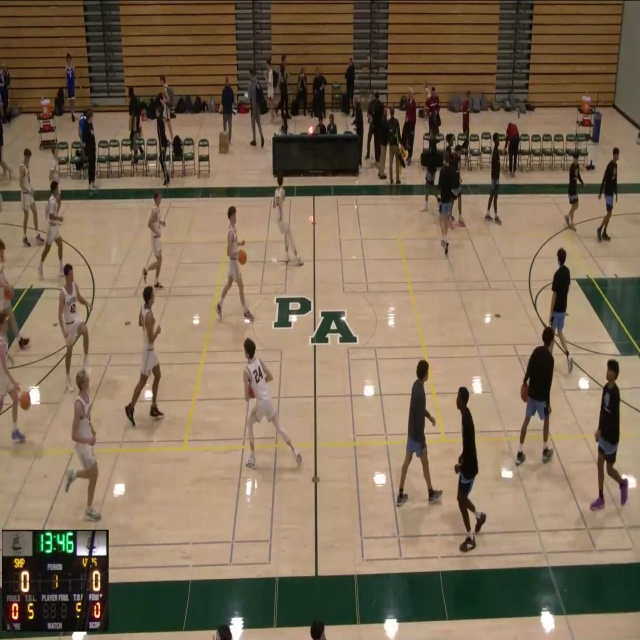Basketball: (20, 391, 30, 410), (521, 383, 529, 402), (238, 250, 247, 265), (4, 287, 13, 300)
